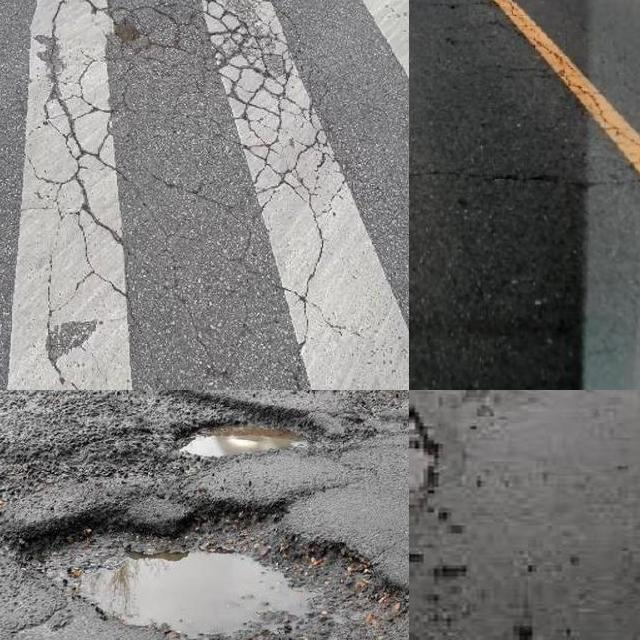Lubang: (12, 504, 409, 640), (185, 412, 323, 460)
Melintang: (409, 162, 629, 199)
Retak Buaya: (24, 0, 366, 312)
